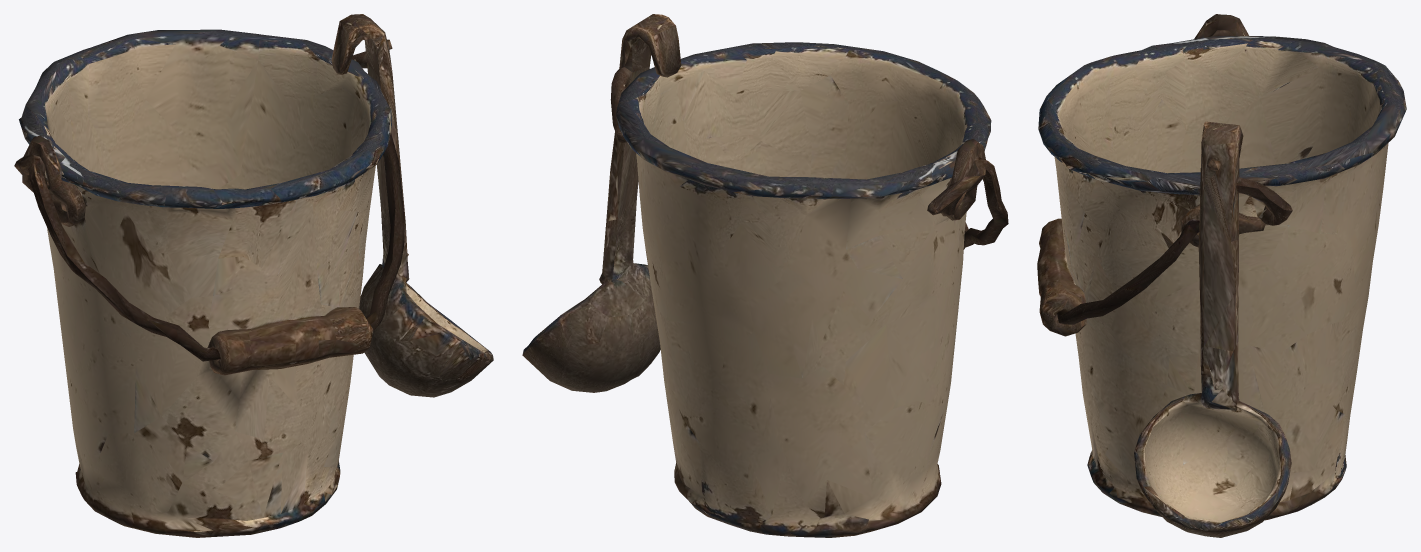
The model's file is k_pail.glb.
The picture shows the model from 3 angles, left to right: view 1: azimuth 30°, elevation 25°; view 2: azimuth 150°, elevation 25°; view 3: azimuth 270°, elevation 25°; orthographic projection.
Parts seen in each view (by area): view 1: k_pail; view 2: k_pail; view 3: k_pail.
Part boxes in pixels (left/top/right/bottom): k_pail: left=14, top=14, right=493, bottom=537; k_pail: left=522, top=14, right=1008, bottom=537; k_pail: left=1037, top=14, right=1406, bottom=537.
Size of the model in its own units: 0.3772 by 0.34 by 0.2705.
1 material, 1 textured.
